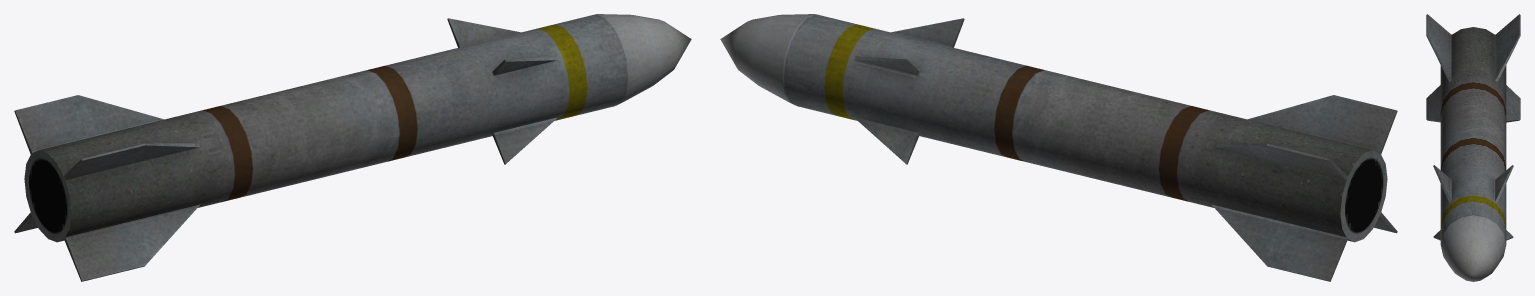
Rendered from projectile_t6_drone_tank_missile_LOD0.obj.
The picture shows the model from 3 angles, left to right: view 1: azimuth 30°, elevation 25°; view 2: azimuth 150°, elevation 25°; view 3: azimuth 270°, elevation 25°; orthographic projection. The views are drawn at different scales.
Visible parts, largest first — view 1: mtl_veh_t6_drone_tank_missile; view 2: mtl_veh_t6_drone_tank_missile; view 3: mtl_veh_t6_drone_tank_missile.
Part boxes in pixels (bbox=[...]): mtl_veh_t6_drone_tank_missile: bbox=[14, 14, 691, 281]; mtl_veh_t6_drone_tank_missile: bbox=[720, 14, 1397, 281]; mtl_veh_t6_drone_tank_missile: bbox=[1426, 14, 1520, 281].
Bounding box in the file's own units: 23.55 × 4.3 × 4.3.
